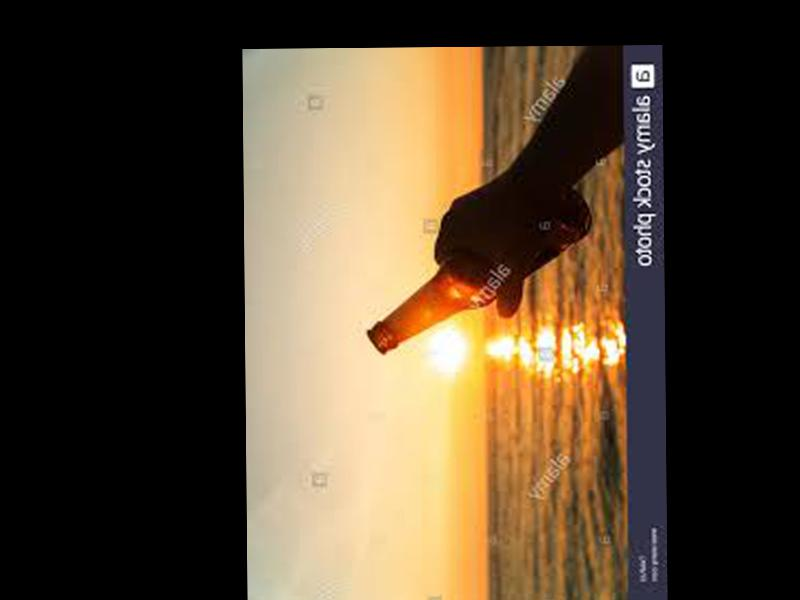Beer: (362, 182, 593, 353)
